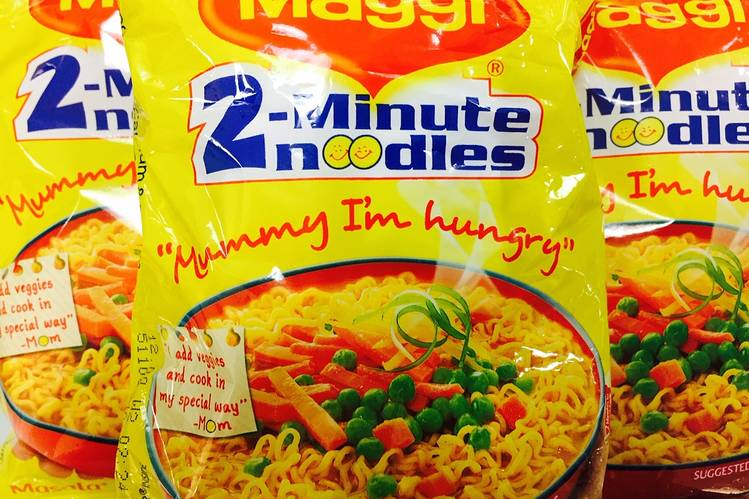maggi: (121, 2, 607, 499)
